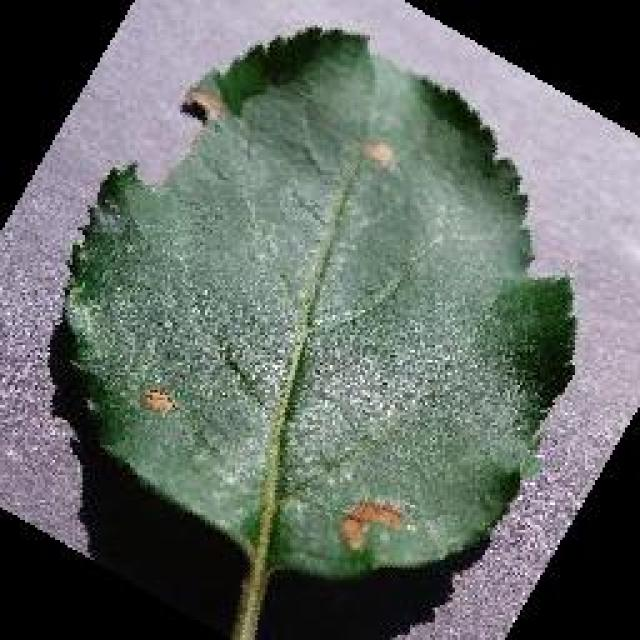Black_rot: (60, 23, 578, 585)
